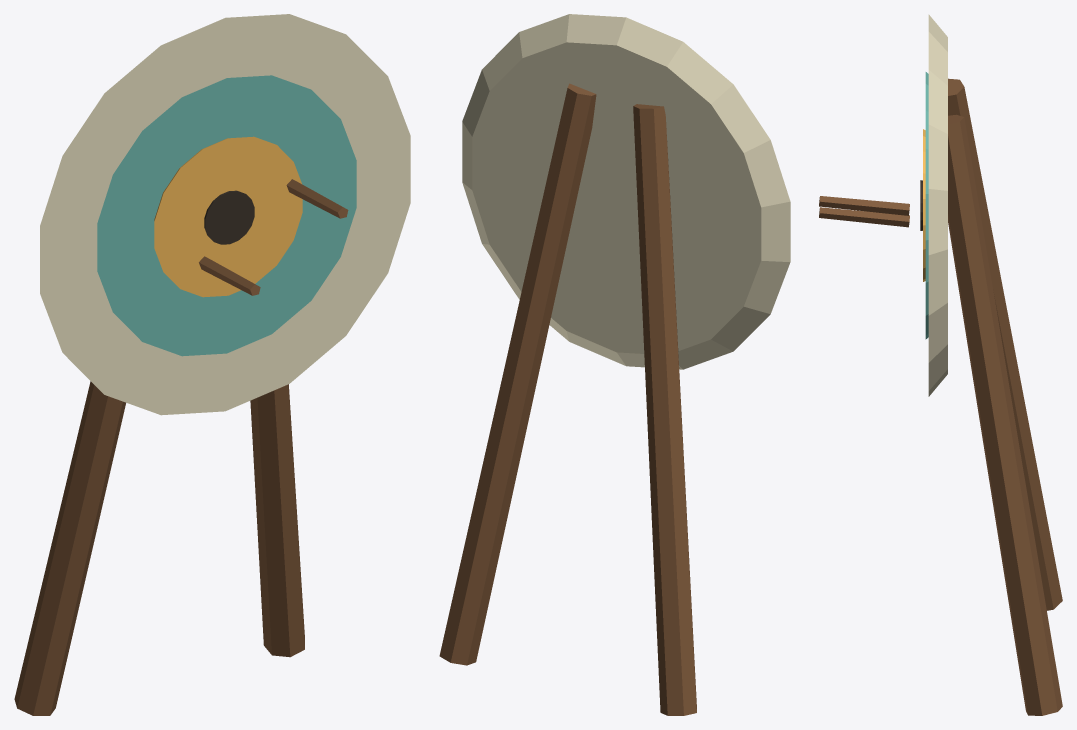
File: CC_DartBoard.fbx
3 views of the same model, side by side, from view 1: azimuth 30°, elevation 25°; view 2: azimuth 150°, elevation 25°; view 3: azimuth 270°, elevation 25° (orthographic). The views are drawn at different scales.
Visible parts, largest first — view 1: Target ring, Target ring.001, Target ring.002, Board leg, Board leg.001, Target ring.003, Thorn dart, Thorn dart.001; view 2: Target ring, Board leg, Board leg.001; view 3: Board leg.001, Target ring, Board leg, Thorn dart, Thorn dart.001, Target ring.001, Target ring.002.
Boxes of the visible parts, x1,y1,x2,y2 form: Target ring: [40, 14, 410, 415]; Target ring.001: [97, 75, 356, 356]; Target ring.002: [154, 136, 302, 297]; Board leg: [14, 381, 125, 715]; Board leg.001: [250, 384, 304, 657]; Target ring.003: [204, 190, 254, 244]; Thorn dart: [286, 179, 348, 218]; Thorn dart.001: [199, 256, 260, 295]; Target ring: [462, 14, 790, 369]; Board leg: [633, 104, 696, 715]; Board leg.001: [439, 83, 596, 665]; Board leg.001: [948, 114, 1062, 715]; Target ring: [928, 14, 947, 396]; Board leg: [948, 78, 1062, 610]; Thorn dart: [819, 196, 909, 215]; Thorn dart.001: [819, 207, 909, 227]; Target ring.001: [925, 72, 928, 339]; Target ring.002: [923, 129, 925, 281].
Bounding box in the file's own units: 1.18 × 2.16 × 0.7603.
